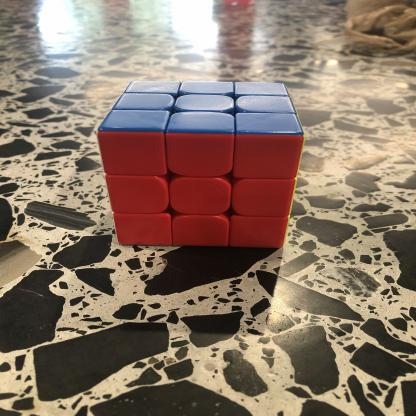SolvedCube: (82, 60, 323, 270)
